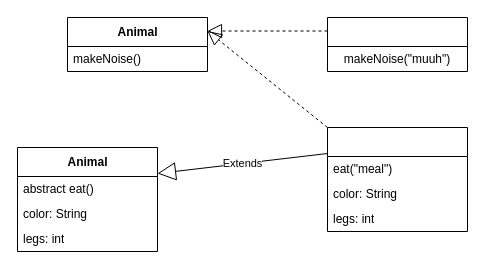
The diagram is 485 pixels wide and 269 high, and some of its shapes have lost their labels. Here are the shapes that lost their labels. From the top down, the box of each, then its label:
(326, 16, 468, 72): Cow
(326, 126, 468, 232): Dog
